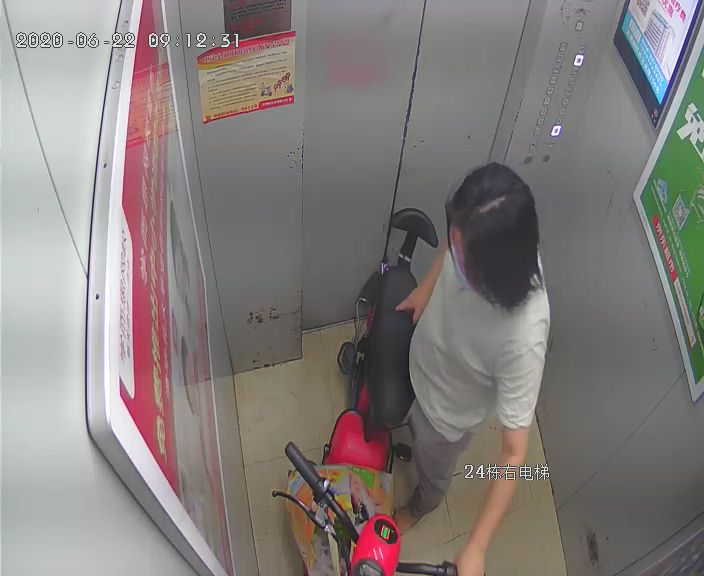Electric-bicycle: (271, 207, 457, 576)
